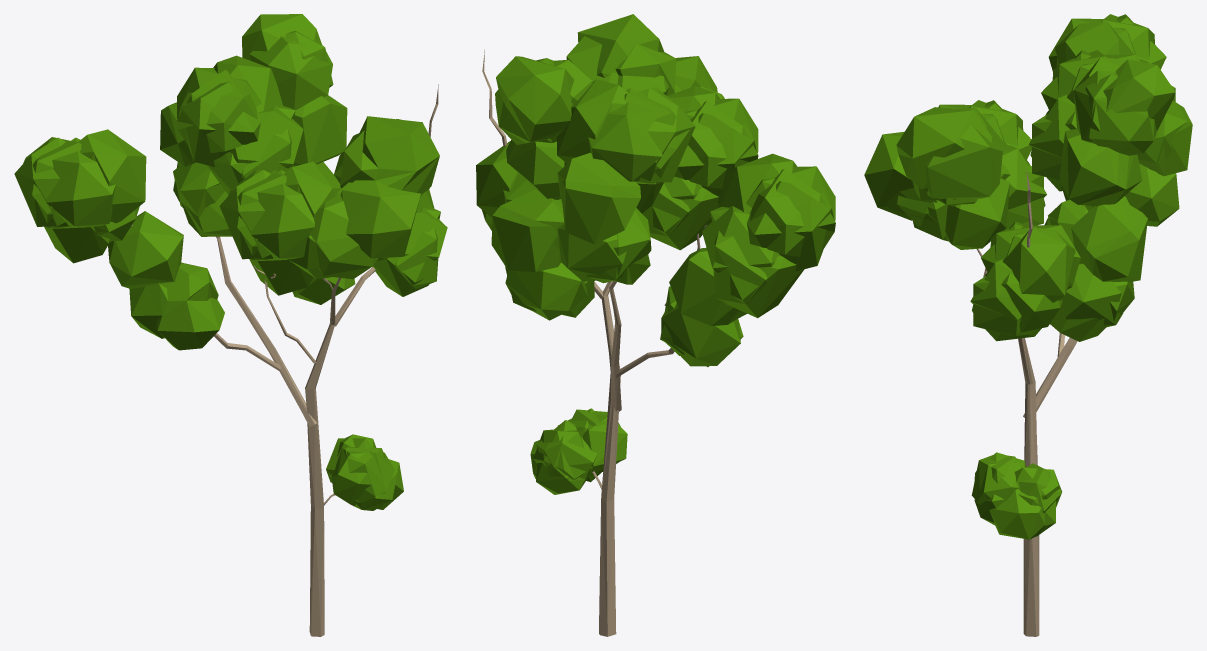
The model's file is arvore_grass.glb.
3 renders of one model, left to right at view 1: azimuth 30°, elevation 25°; view 2: azimuth 150°, elevation 25°; view 3: azimuth 270°, elevation 25°, orthographic. The views are drawn at different scales.
Visible parts, largest first — view 1: Revestimie, Group24, Leaves_2_2, BranchesTr; view 2: Revestimie, Group24, Leaves_2_2, BranchesTr; view 3: Revestimie, Group24, Leaves_2_2, BranchesTr.
Boxes of the visible parts, bbox=[...] form: Revestimie: bbox=[14, 14, 447, 350]; Group24: bbox=[176, 55, 403, 510]; Leaves_2_2: bbox=[287, 116, 439, 279]; BranchesTr: bbox=[131, 84, 438, 636]; Revestimie: bbox=[476, 56, 835, 366]; Group24: bbox=[530, 79, 758, 494]; Leaves_2_2: bbox=[566, 14, 724, 98]; BranchesTr: bbox=[482, 49, 706, 636]; Revestimie: bbox=[970, 14, 1192, 341]; Group24: bbox=[938, 50, 1139, 539]; Leaves_2_2: bbox=[864, 107, 1009, 249]; BranchesTr: bbox=[976, 169, 1077, 636].
Bounding box in the file's own units: 136 × 201 × 104.
